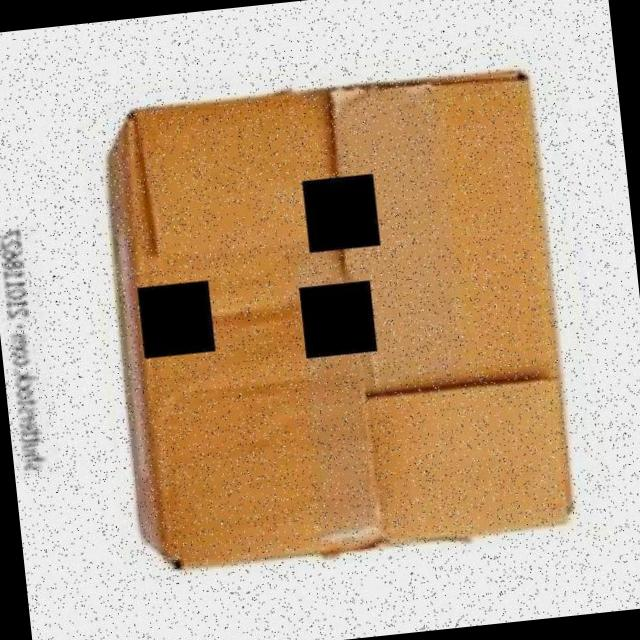box: (88, 57, 590, 584)
